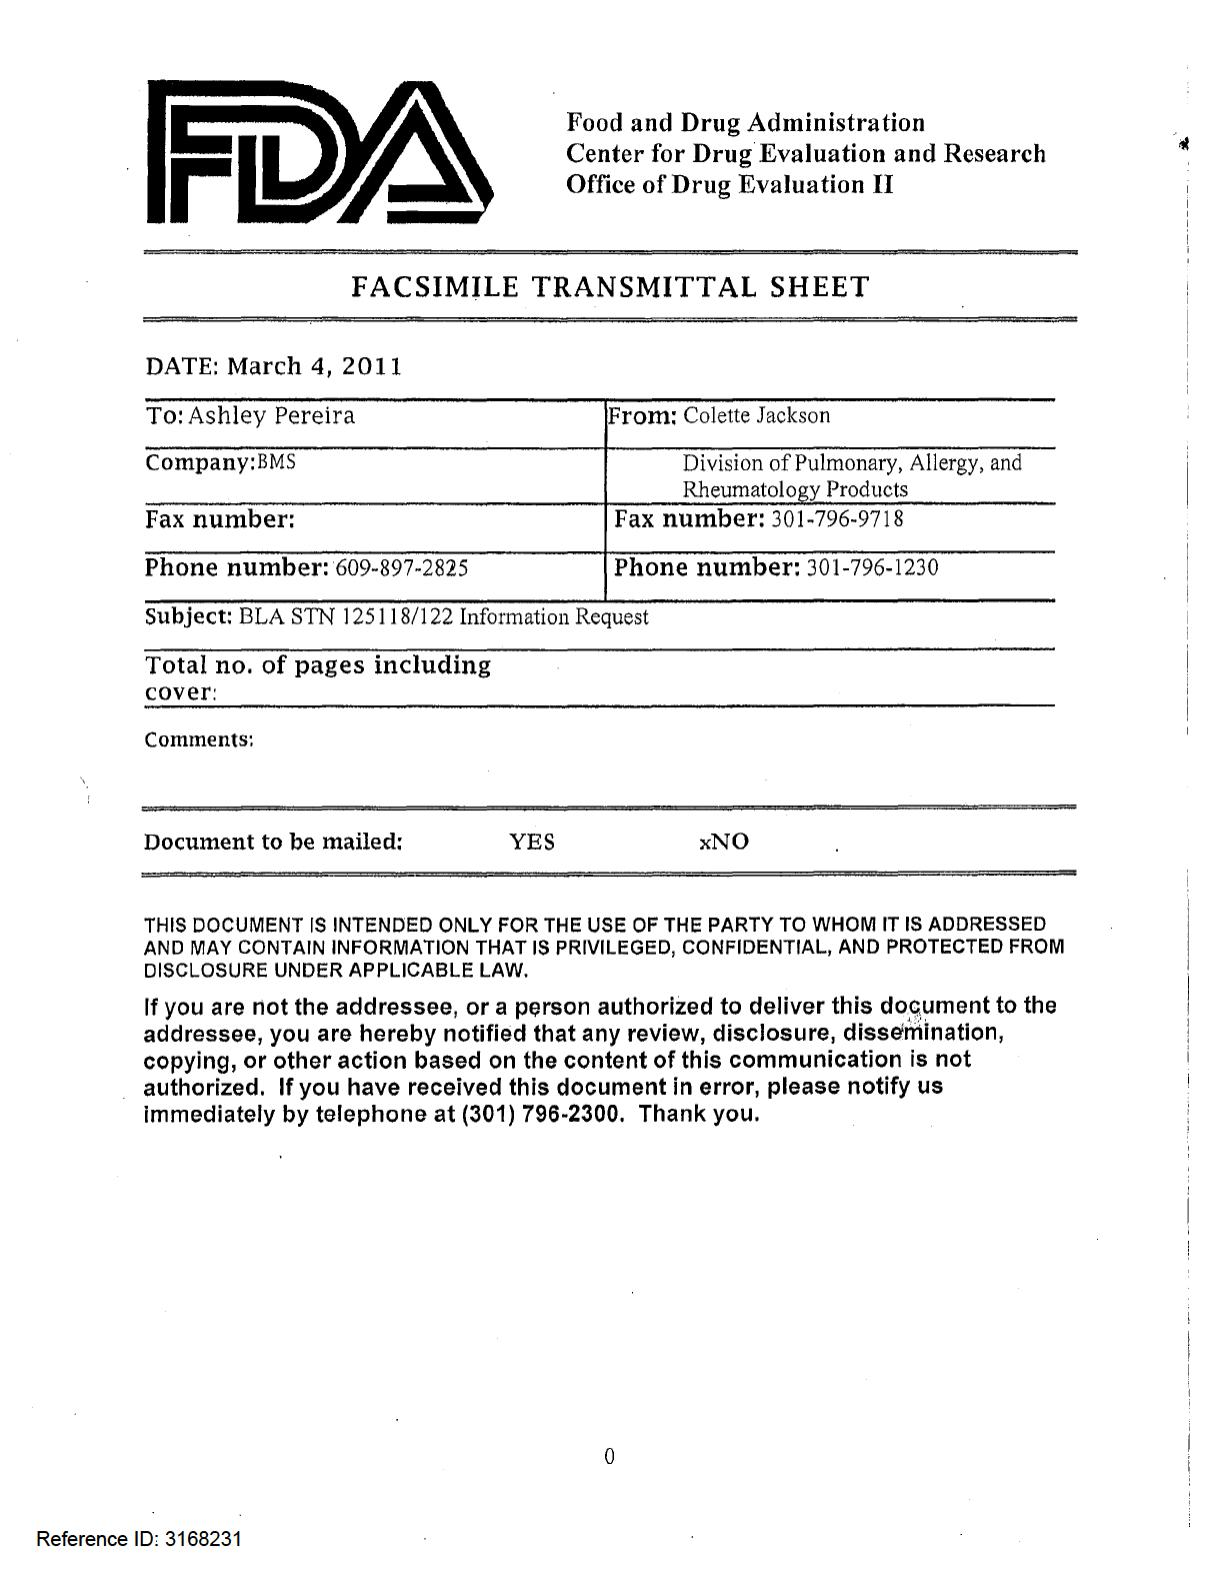partial_lined_merged_cells: (139, 311, 1083, 881)
